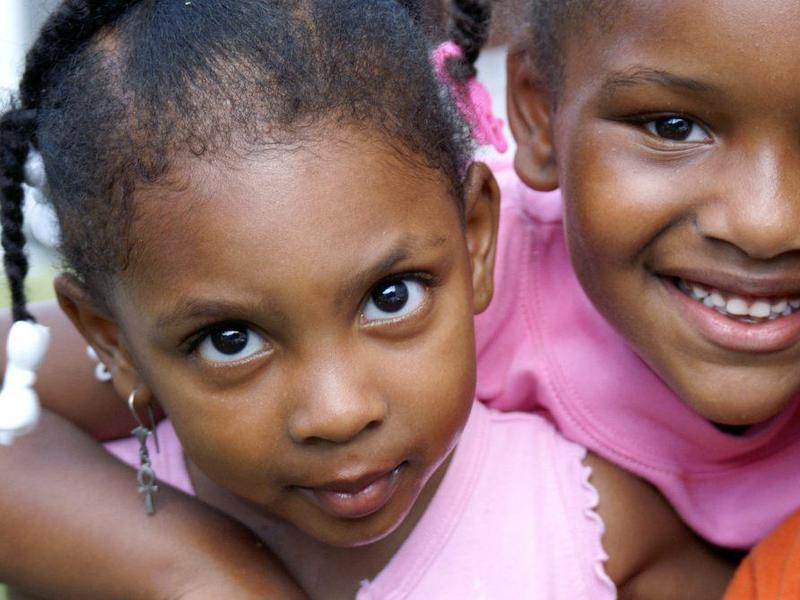person: (3, 1, 733, 600), (486, 1, 800, 544)
